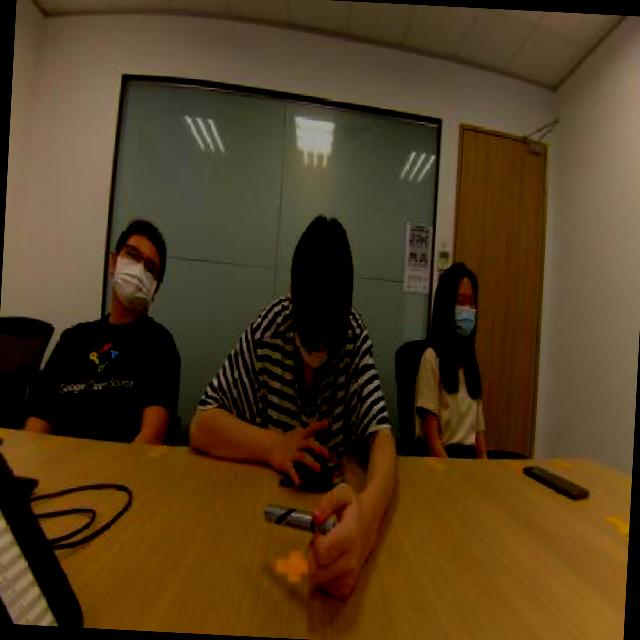Person: (205, 195, 374, 470), (16, 170, 182, 438), (394, 244, 511, 466)
